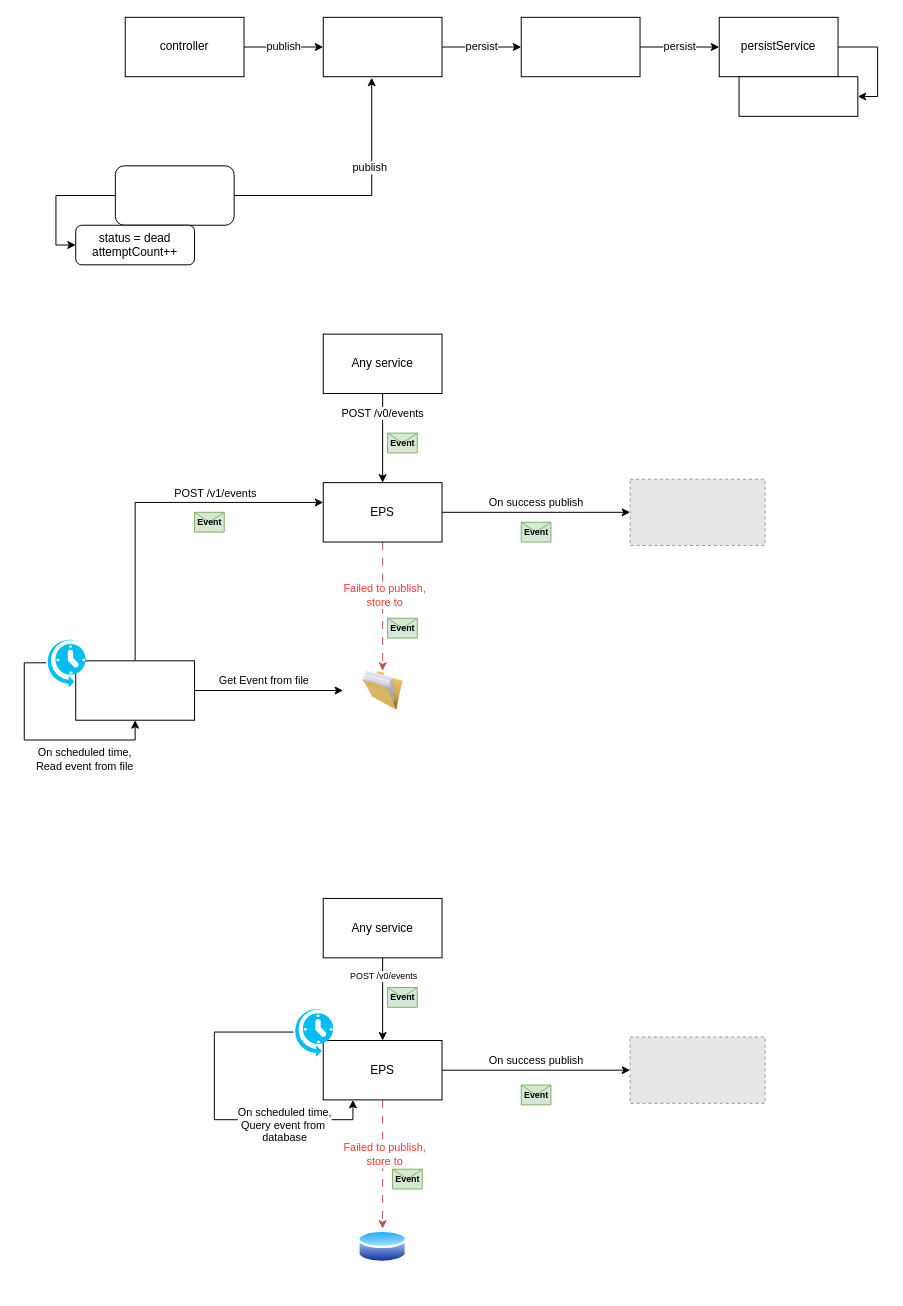
Image size: 903x1306. Some labels were removed from this diagram. Grey dashed boxes stand in for pictures. Here are the shapes that lost their labels. From the top down, the box of each, then its label:
(322, 16, 442, 77): kakfkapublisher
(520, 16, 640, 77): retryService
(738, 76, 858, 116): attempts
(114, 165, 234, 225): cronjob
(75, 660, 195, 720): Event Retry Service
(343, 670, 422, 710): PVC
(357, 1228, 407, 1265): Database
